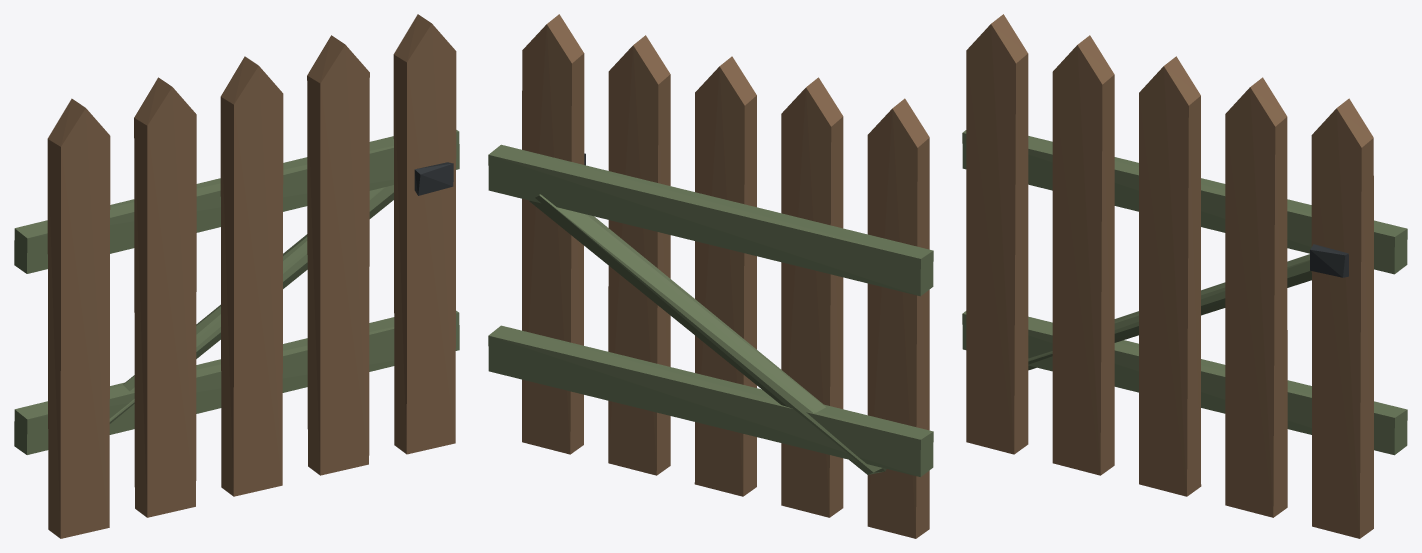
Rendered from SM_Kit_Fence_Picket_Gate_LOD2.glb.
The picture shows the model from 3 angles, left to right: view 1: azimuth 30°, elevation 25°; view 2: azimuth 150°, elevation 25°; view 3: azimuth 330°, elevation 25°; orthographic projection.
Visible parts, largest first — view 1: SM_Kit_Fence_Picket_Gate_LOD2; view 2: SM_Kit_Fence_Picket_Gate_LOD2; view 3: SM_Kit_Fence_Picket_Gate_LOD2.
Boxes of the visible parts, x1=… form: SM_Kit_Fence_Picket_Gate_LOD2: x1=14, y1=14, x2=459, y2=538; SM_Kit_Fence_Picket_Gate_LOD2: x1=488, y1=14, x2=933, y2=538; SM_Kit_Fence_Picket_Gate_LOD2: x1=962, y1=14, x2=1407, y2=538.
Size of the model in its own units: 1 by 0.9401 by 0.1454.
